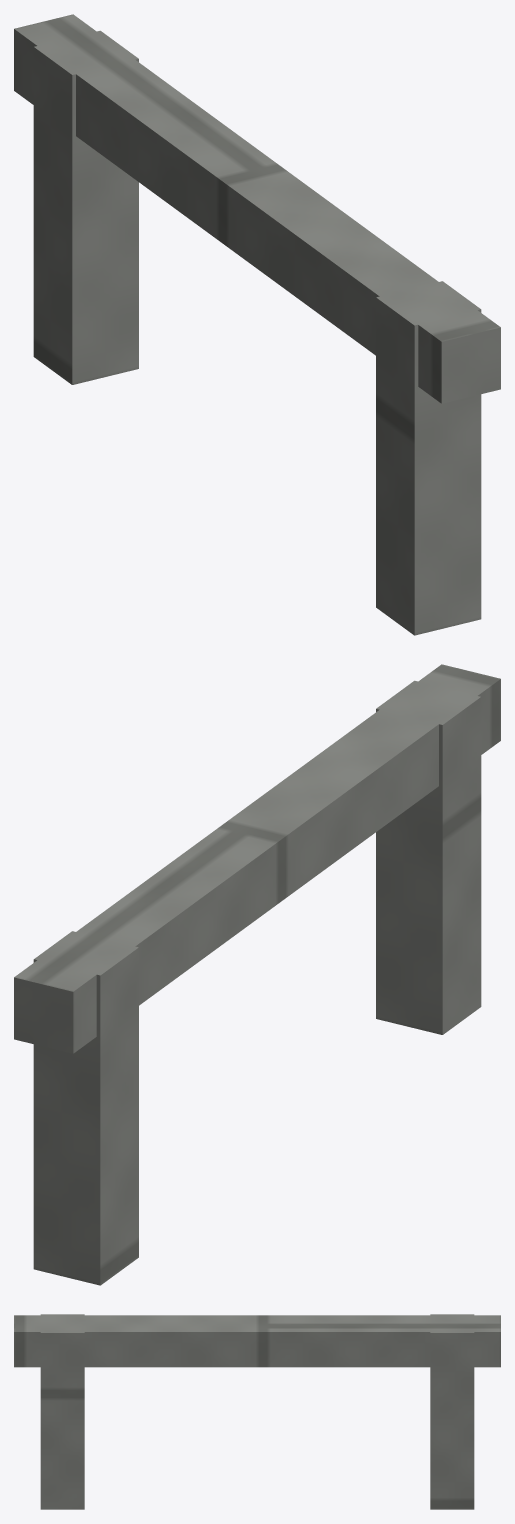
The model's file is platform_rail.obj.
3 views of the same model, one above another, from view 1: azimuth 30°, elevation 25°; view 2: azimuth 150°, elevation 25°; view 3: azimuth 270°, elevation 25° (orthographic). The views are drawn at different scales.
Parts seen in each view (by area): view 1: platform_rail; view 2: platform_rail; view 3: platform_rail.
Part boxes in pixels (x1,y1,x2,y2): platform_rail: [14, 14, 500, 635]; platform_rail: [14, 664, 500, 1285]; platform_rail: [14, 1314, 500, 1509].
Bounding box in the file's own units: 0.18 × 0.8 × 2.
1 material, 1 textured.
